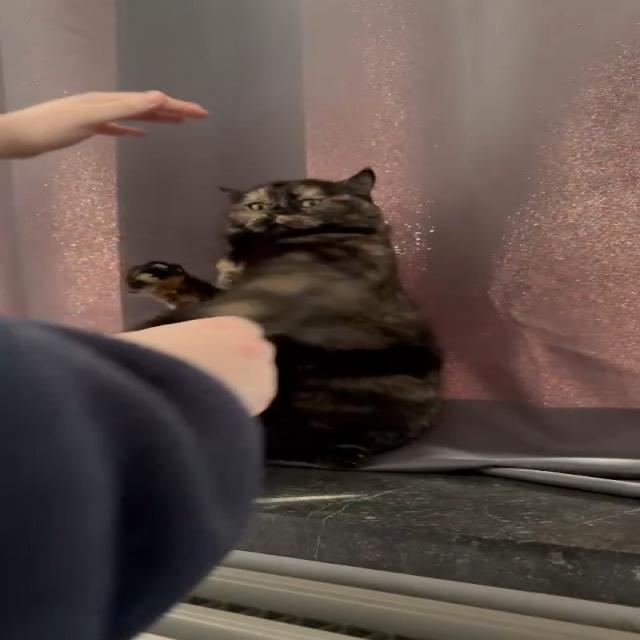authorized: (124, 166, 445, 469)
